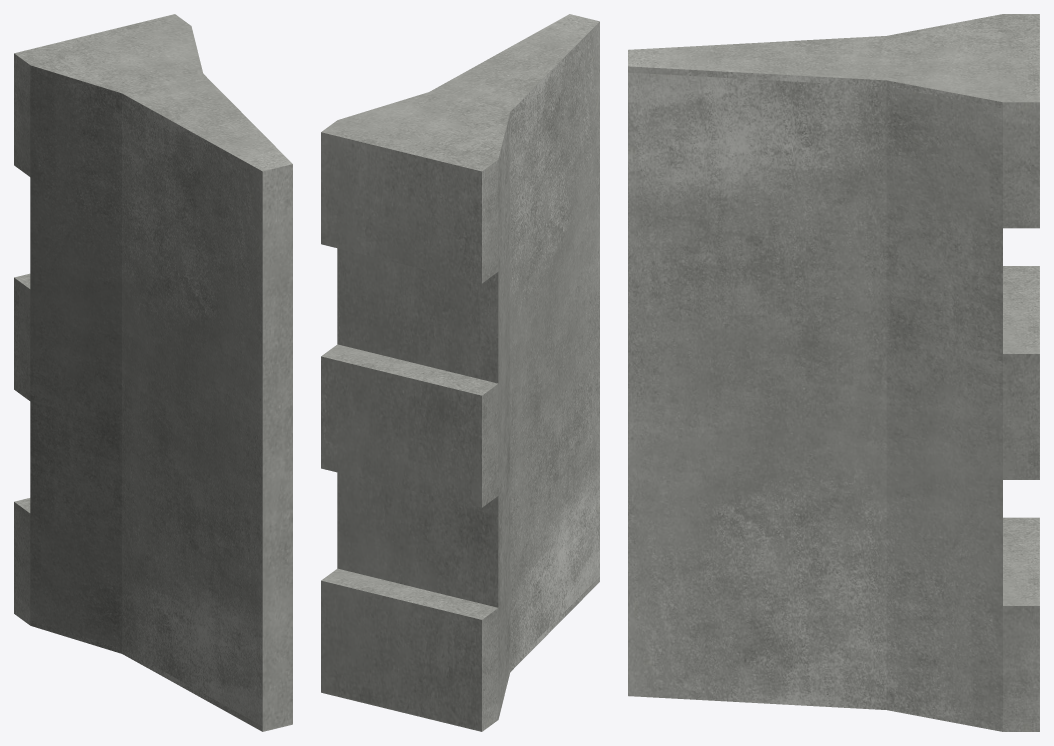
Rendered from barrier_jersey.obj.
3 views of the same model, side by side, from view 1: azimuth 30°, elevation 25°; view 2: azimuth 150°, elevation 25°; view 3: azimuth 270°, elevation 25° (orthographic). The views are drawn at different scales.
Visible parts, largest first — view 1: Box001; view 2: Box001; view 3: Box001.
Boxes of the visible parts, bbox=[...] form: Box001: bbox=[14, 14, 292, 731]; Box001: bbox=[321, 14, 599, 731]; Box001: bbox=[628, 14, 1039, 731].
Bounding box in the file's own units: 12.07 × 40.16 × 23.8.
